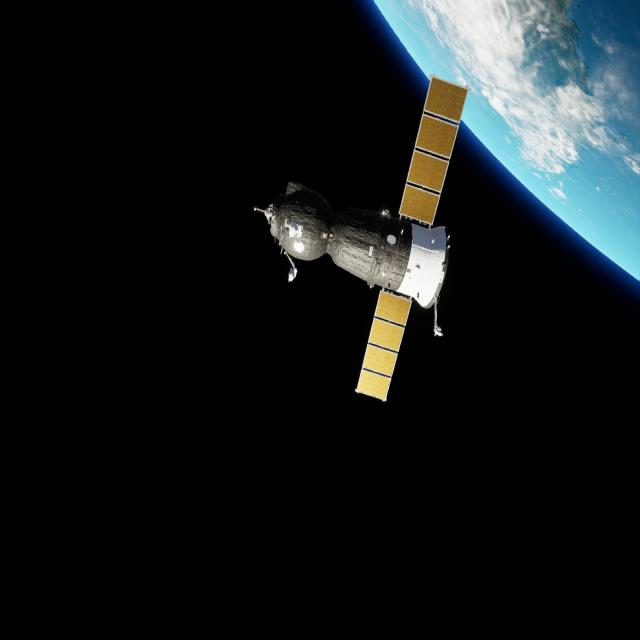Satellites revolving around earth: (251, 72, 471, 406)
